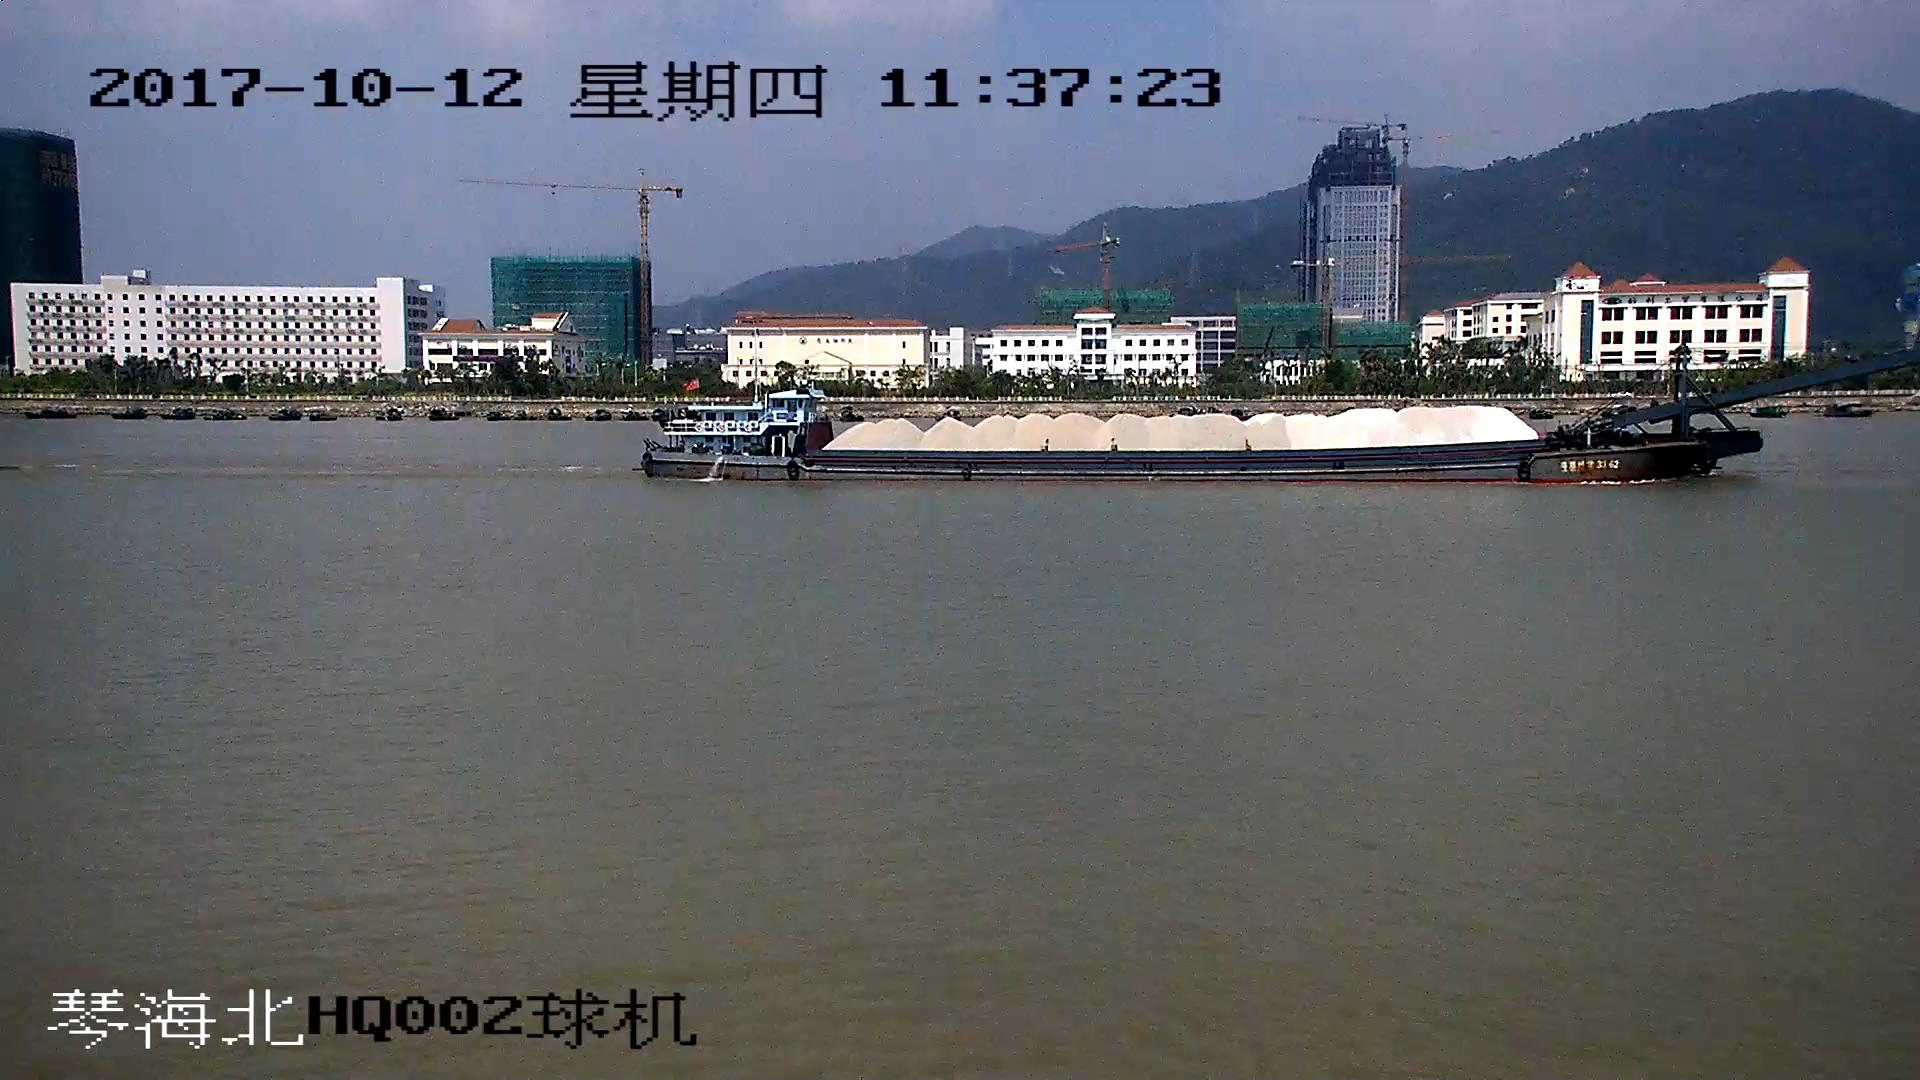ore carrier: (641, 348, 1920, 480)
